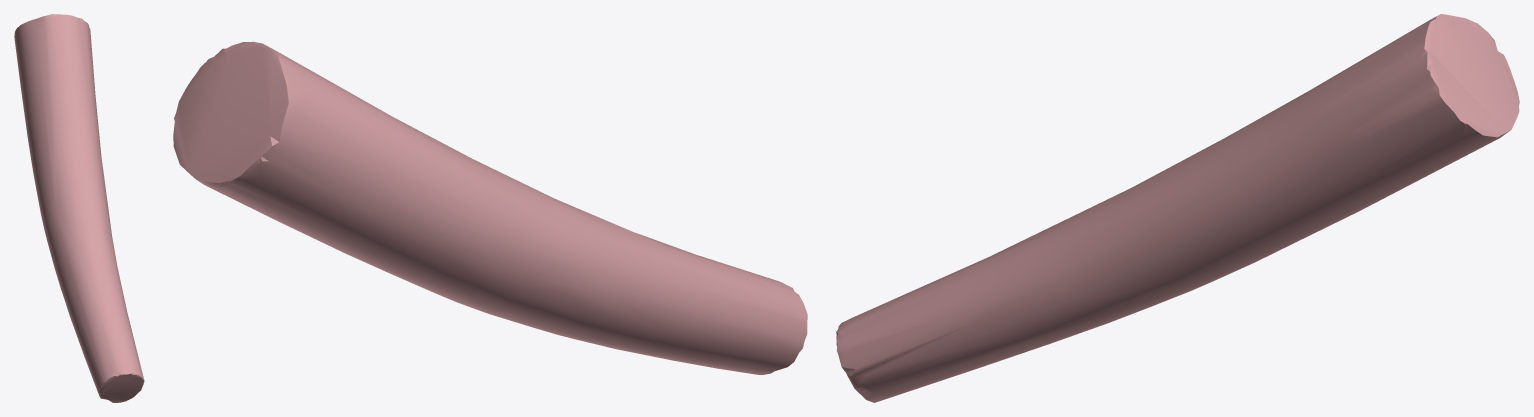
Rendered from fma68215_fj2503.glb.
3 renders of one model, left to right at view 1: azimuth 30°, elevation 25°; view 2: azimuth 150°, elevation 25°; view 3: azimuth 270°, elevation 25°, orthographic. The views are drawn at different scales.
Visible parts, largest first — view 1: FMA68215_FJ2503; view 2: FMA68215_FJ2503; view 3: FMA68215_FJ2503.
Boxes of the visible parts, x1,y1,x2,y2 form: FMA68215_FJ2503: [14, 14, 144, 402]; FMA68215_FJ2503: [173, 41, 807, 374]; FMA68215_FJ2503: [836, 14, 1519, 402].
Size of the model in its own units: 0.00913 by 0.0147 by 0.0197.
